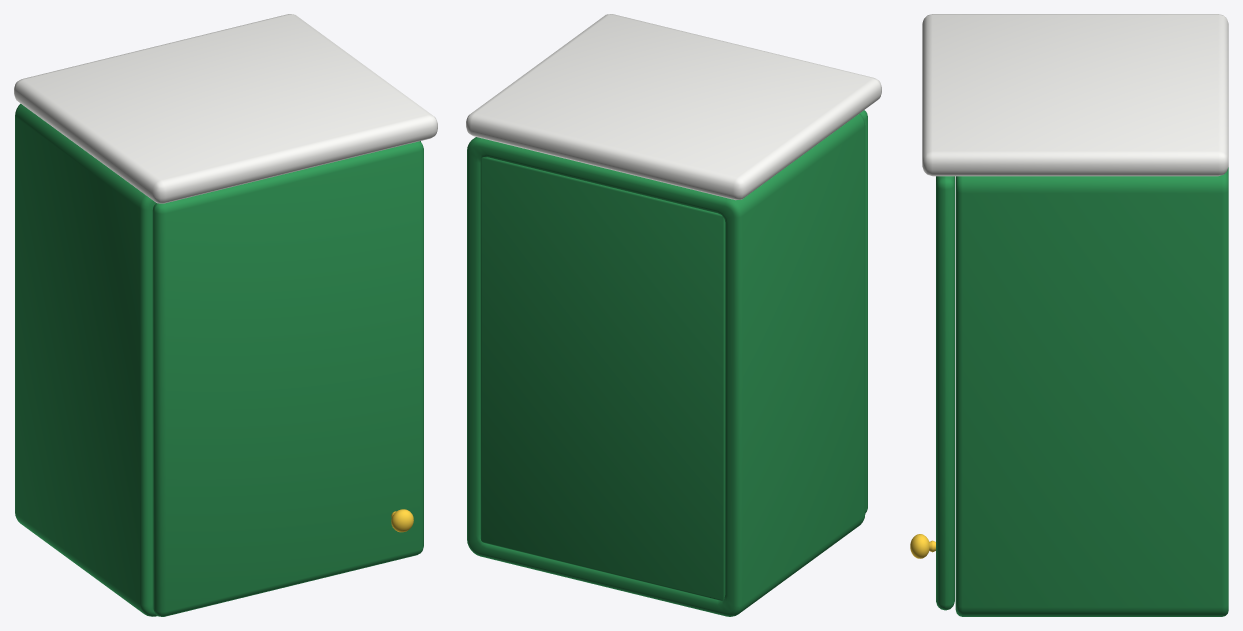
Rendered from armario_parede_1porta_verde.glb.
3 views of the same model, side by side, from view 1: azimuth 30°, elevation 25°; view 2: azimuth 150°, elevation 25°; view 3: azimuth 270°, elevation 25° (orthographic). The views are drawn at different scales.
Visible parts, largest first — view 1: porta_1, armario_parede_1porta_verde; view 2: armario_parede_1porta_verde, porta_1; view 3: armario_parede_1porta_verde, porta_1.
Part boxes in pixels (x1=…): porta_1: x1=152, y1=141, x2=423, y2=616; armario_parede_1porta_verde: x1=14, y1=14, x2=437, y2=616; armario_parede_1porta_verde: x1=466, y1=14, x2=881, y2=616; porta_1: x1=860, y1=110, x2=867, y2=513; armario_parede_1porta_verde: x1=922, y1=14, x2=1228, y2=616; porta_1: x1=910, y1=176, x2=954, y2=610.
Bounding box in the file's own units: 0.398 × 0.6 × 0.37.
1 material, 1 textured.
